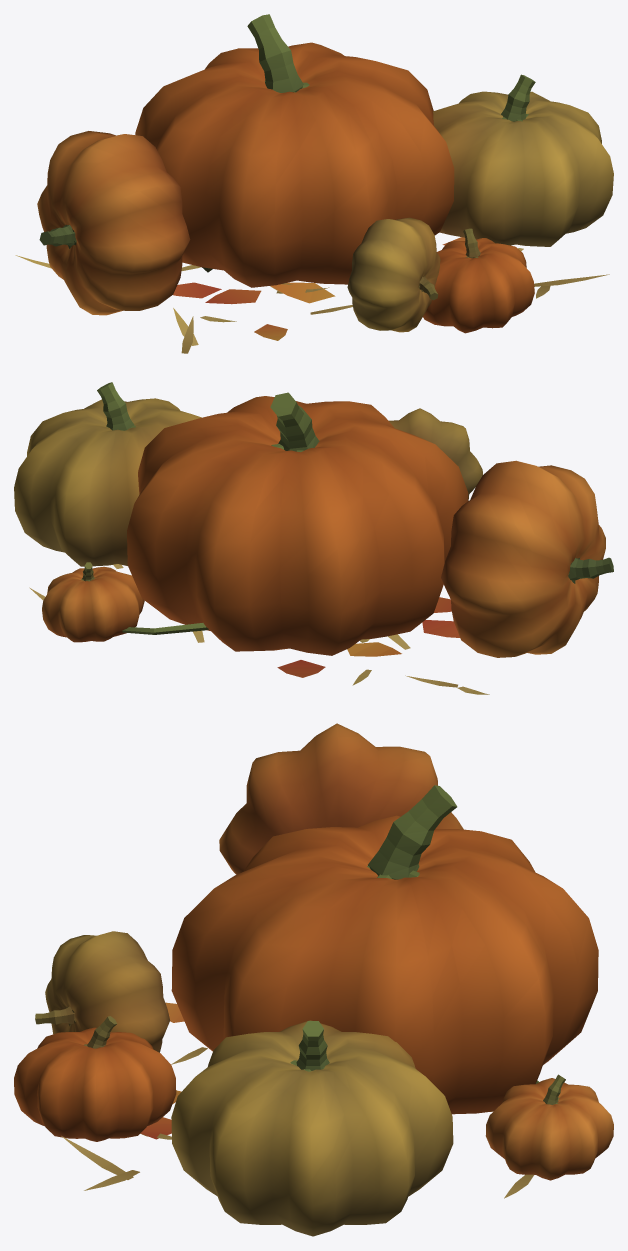
File: pumpkin_pile_01.glb
3 views of the same model, one above another, from view 1: azimuth 30°, elevation 25°; view 2: azimuth 150°, elevation 25°; view 3: azimuth 270°, elevation 25° (orthographic). The views are drawn at different scales.
Parts seen in each view (by area): view 1: pumpkin_pile_01; view 2: pumpkin_pile_01; view 3: pumpkin_pile_01.
Boxes of the visible parts, bbox=[...] form: pumpkin_pile_01: bbox=[15, 14, 613, 353]; pumpkin_pile_01: bbox=[14, 382, 613, 694]; pumpkin_pile_01: bbox=[14, 723, 613, 1236].
Bounding box in the file's own units: 1.95 × 0.7637 × 1.41.
